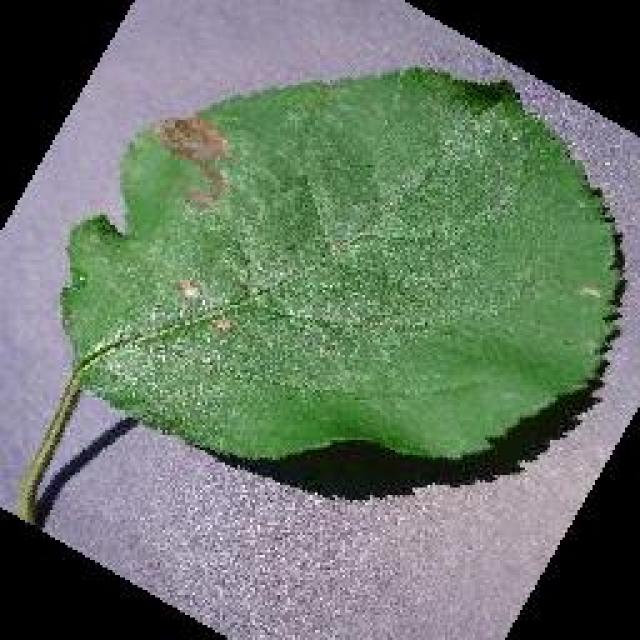apple healthy: (52, 60, 630, 502)
